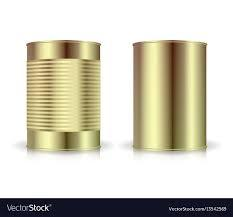Tin: (126, 30, 218, 161), (23, 33, 108, 162)
